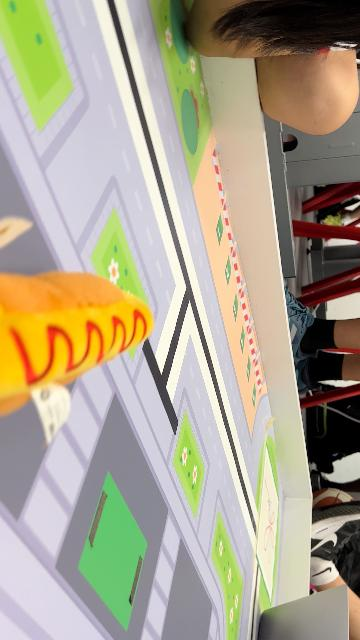hotdog: (1, 270, 155, 416)
